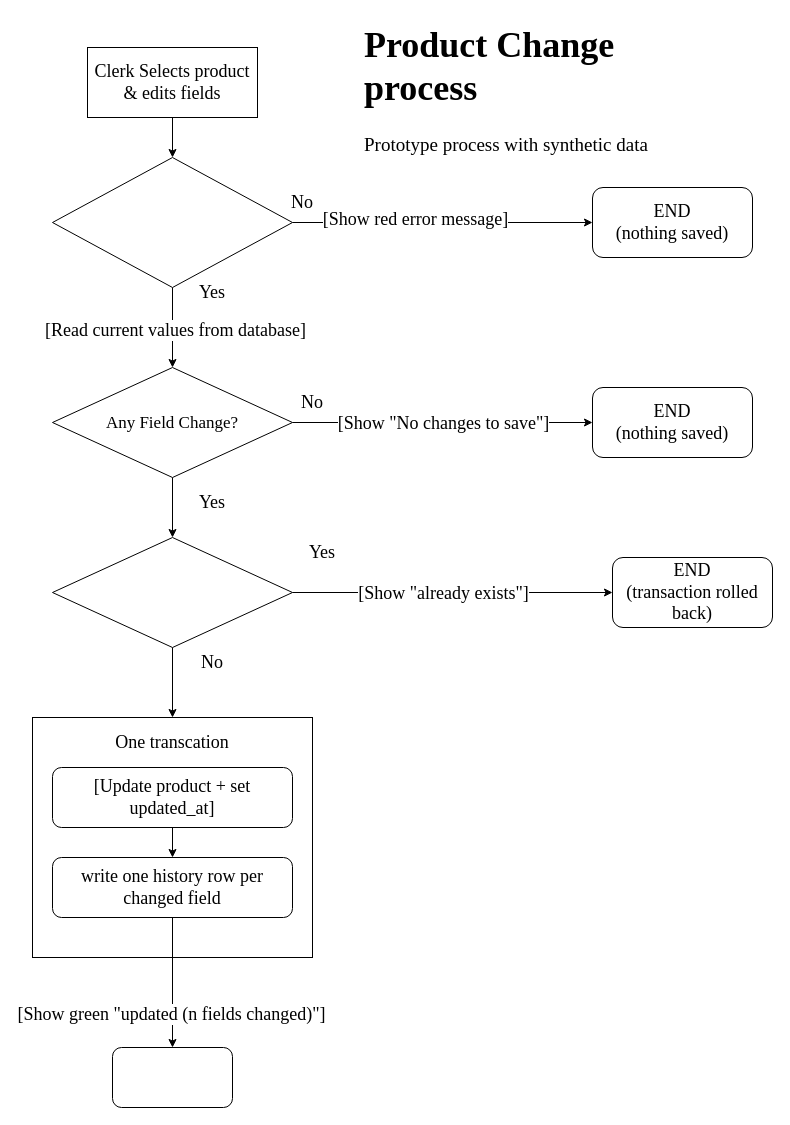
Image size: 790x1125. Some labels were removed from this diagram. The shapes that lost their labels are listed below. From the top down, each one's centre as x and y in pixels, then its label:
At pixel 172 222: "Input Valid? (validate_product + user name)".
At pixel 172 592: "Name already used by another product?".
At pixel 172 1077: "END".
